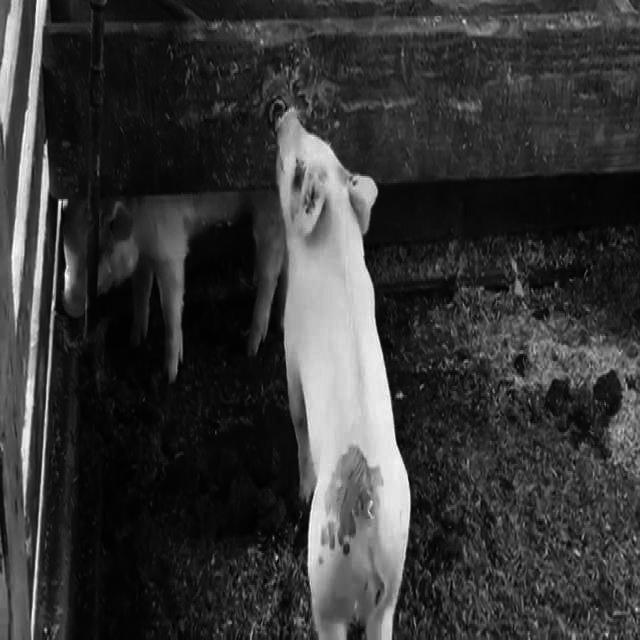pig: (275, 109, 410, 640), (64, 199, 85, 317)
